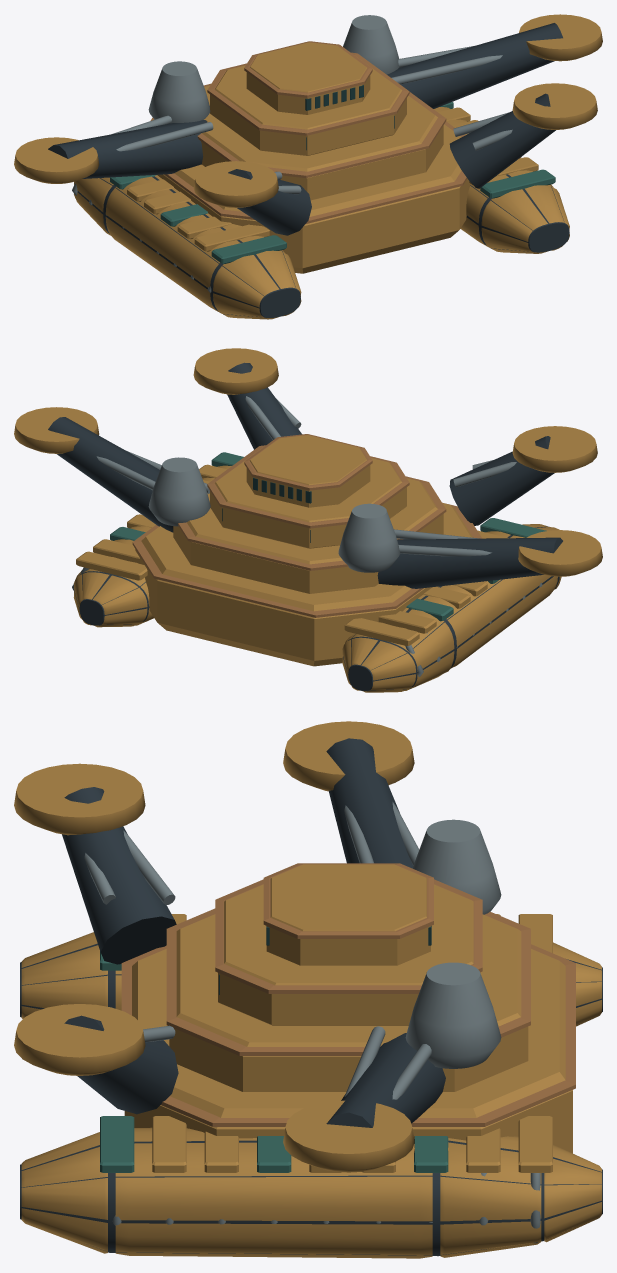
Rendered from sunforge_colossus.glb.
3 renders of one model, top to bottom at view 1: azimuth 30°, elevation 25°; view 2: azimuth 150°, elevation 25°; view 3: azimuth 270°, elevation 25°, orthographic. The views are drawn at different scales.
Visible parts, largest first — view 1: sunforge_colossus; view 2: sunforge_colossus; view 3: sunforge_colossus.
Part boxes in pixels (x1,y1,x2,y2): sunforge_colossus: [14, 14, 602, 319]; sunforge_colossus: [14, 348, 602, 692]; sunforge_colossus: [14, 721, 602, 1258].
Bounding box in the file's own units: 68.8 × 18.19 × 39.4.
